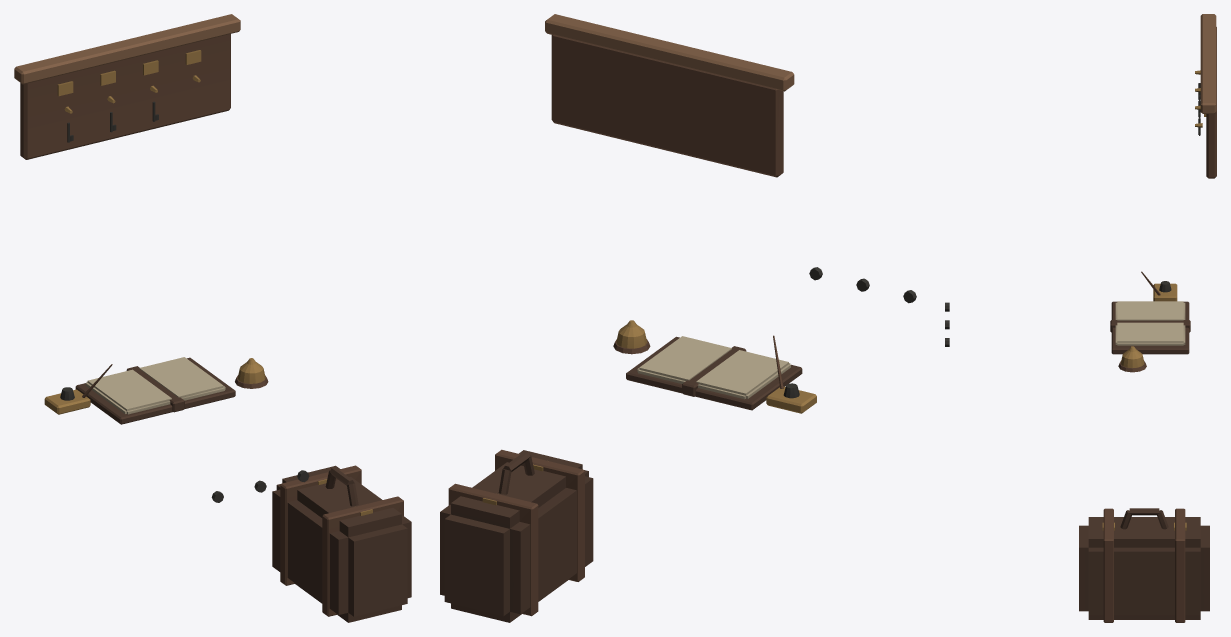
Rendered from hargrove_reception_props.glb.
3 views of the same model, side by side, from view 1: azimuth 30°, elevation 25°; view 2: azimuth 150°, elevation 25°; view 3: azimuth 270°, elevation 25° (orthographic). The views are drawn at different scales.
Visible parts, largest first — view 1: hargrove_reception_props; view 2: hargrove_reception_props; view 3: hargrove_reception_props.
Part boxes in pixels (x1,y1,x2,y2): hargrove_reception_props: (14,14,411,622); hargrove_reception_props: (440,14,916,622); hargrove_reception_props: (945,14,1216,622).
Bounding box in the file's own units: 1.07 × 1.77 × 0.913.
